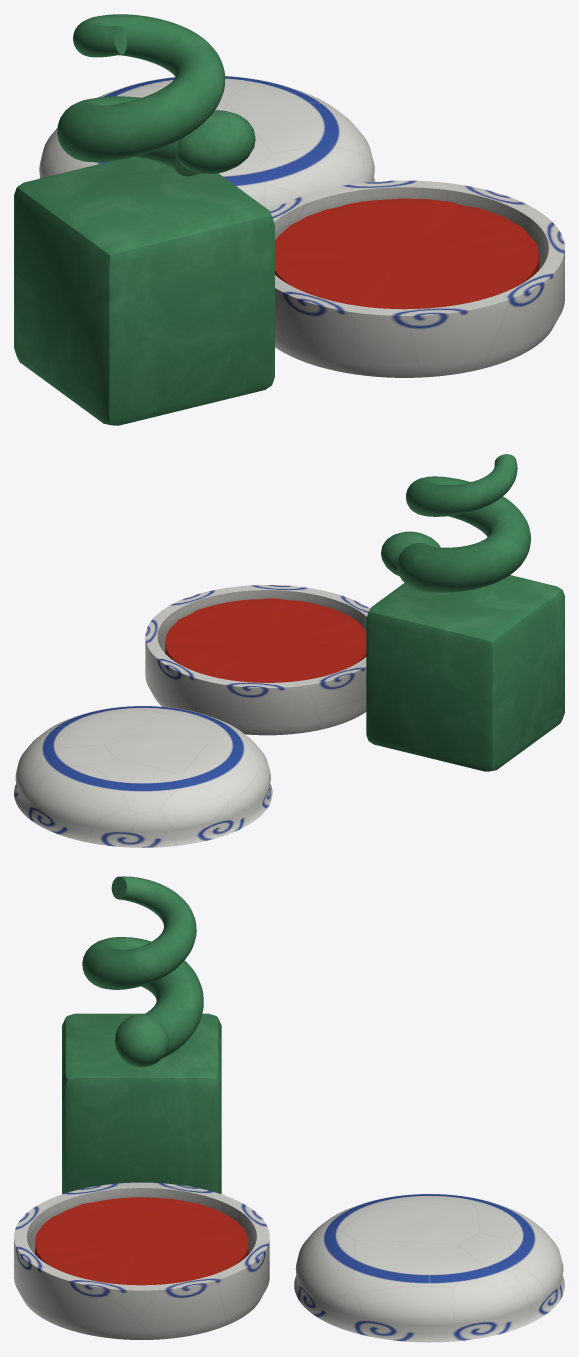
File: jade_seal.glb
3 views of the same model, one above another, from view 1: azimuth 30°, elevation 25°; view 2: azimuth 150°, elevation 25°; view 3: azimuth 270°, elevation 25° (orthographic). The views are drawn at different scales.
Parts seen in each view (by area): view 1: jade_seal; view 2: jade_seal; view 3: jade_seal.
Part boxes in pixels (<box>): jade_seal: <box>14,14,564,425</box>; jade_seal: <box>14,454,564,847</box>; jade_seal: <box>14,876,564,1342</box>.
Size of the model in its own units: 0.14 by 0.1028 by 0.1724.
1 material, 1 textured.
